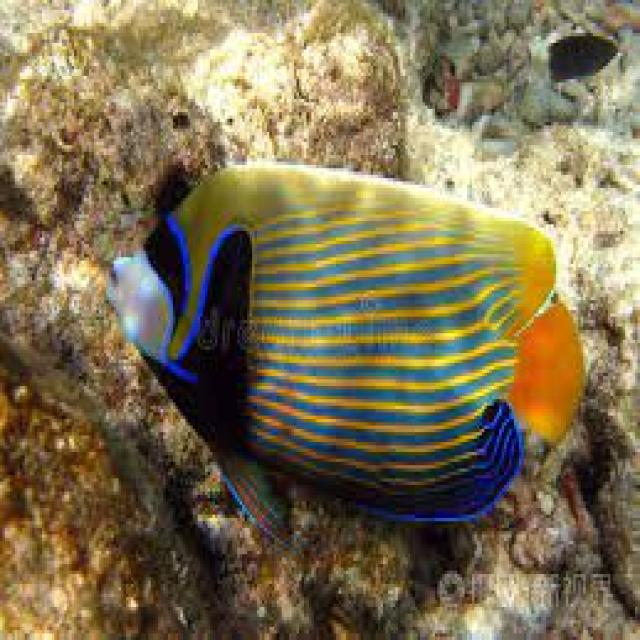AngelFish: (114, 164, 582, 543)
